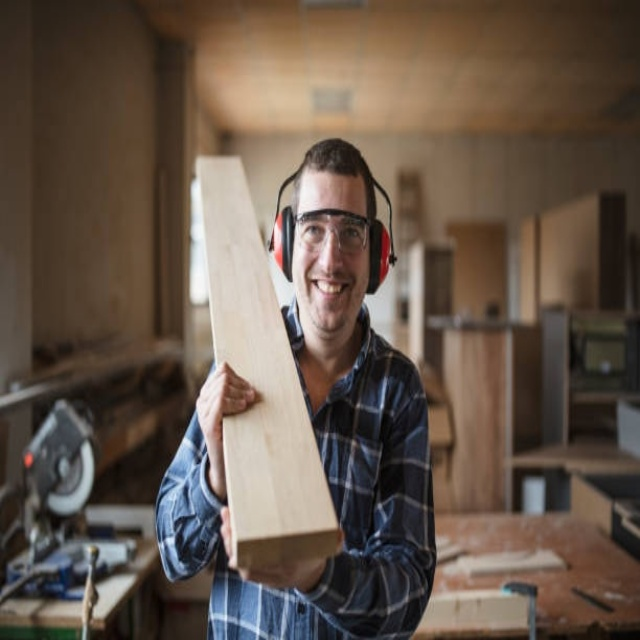Gafas: (294, 213, 371, 253)
Sin_guantes: (192, 358, 260, 480)
Sin_mascara: (305, 267, 352, 318)
